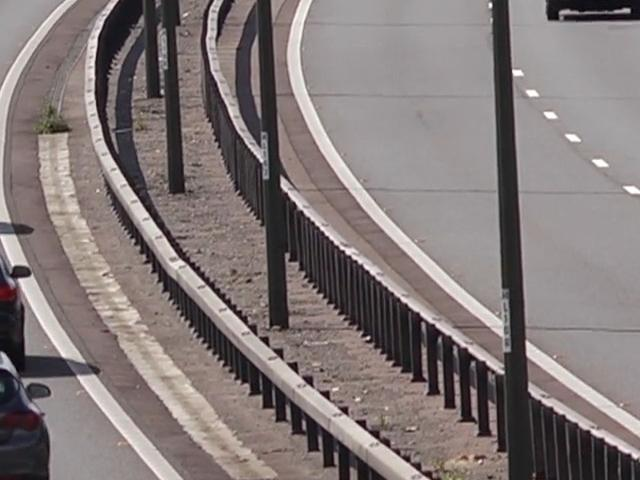car: (540, 0, 640, 28)
